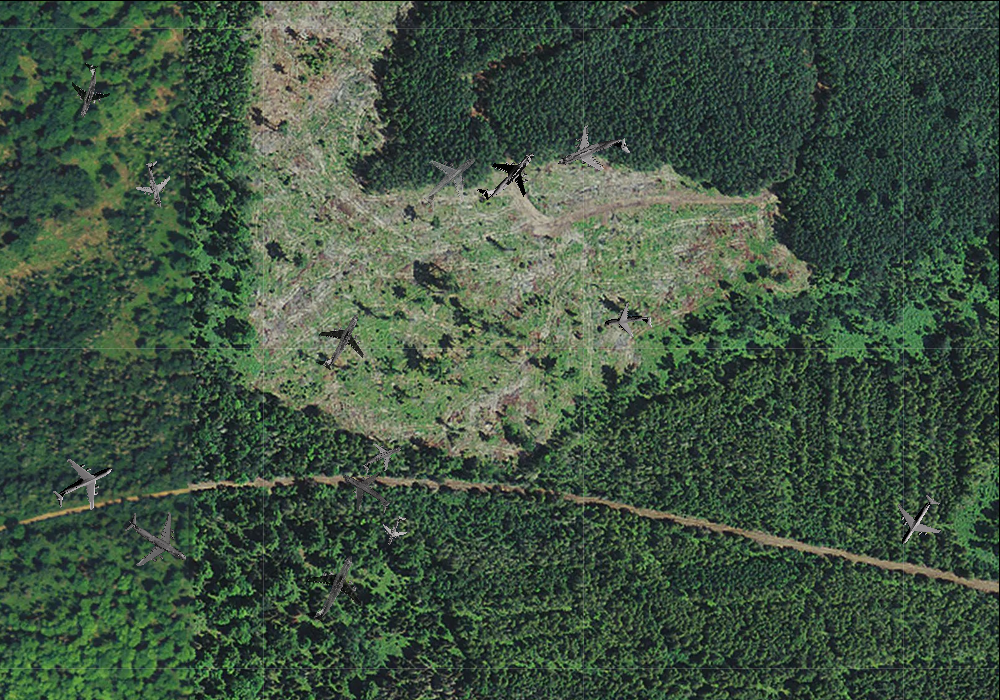plane: (285, 540, 380, 636), (109, 493, 203, 586), (405, 136, 495, 225), (464, 131, 551, 219), (548, 110, 638, 195), (41, 443, 124, 525), (299, 299, 380, 383), (881, 483, 955, 558), (329, 455, 403, 528), (56, 57, 118, 123), (127, 155, 182, 212), (355, 433, 409, 483), (601, 297, 655, 346), (376, 510, 414, 551)
